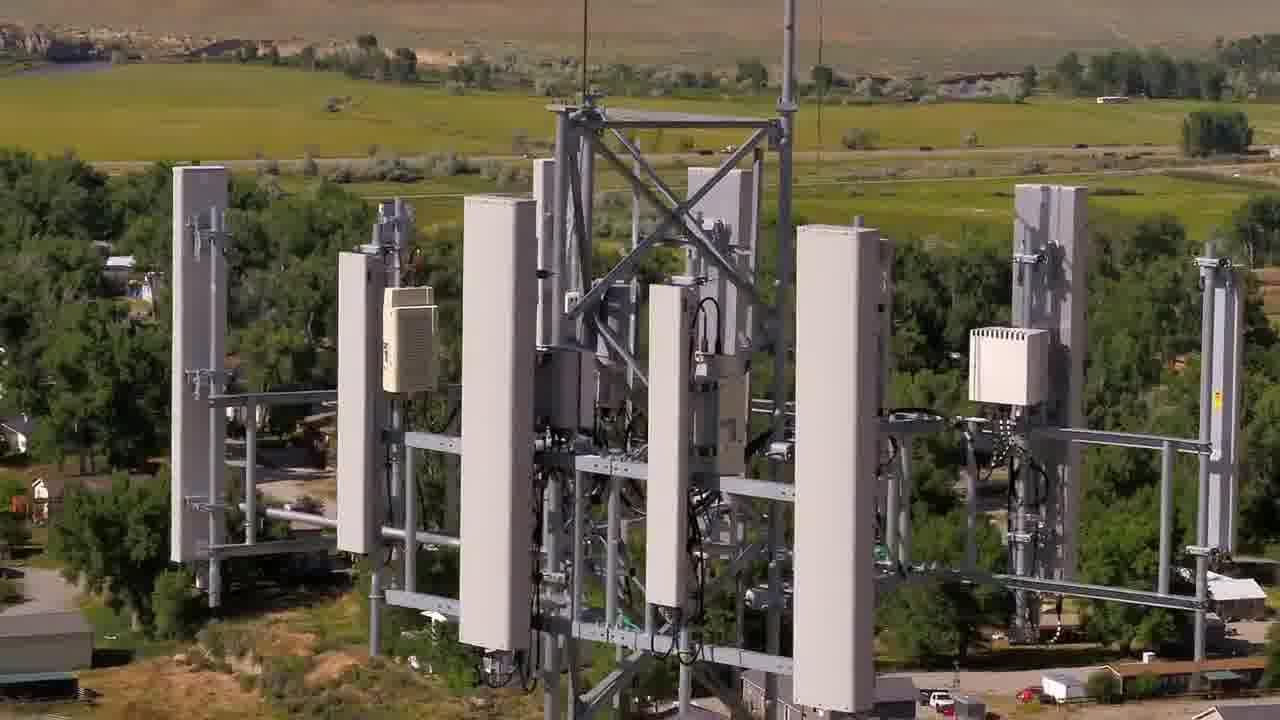antenna: (792, 209, 895, 716), (453, 176, 557, 660), (1007, 177, 1088, 600), (160, 156, 239, 577), (629, 267, 708, 633), (685, 155, 754, 471), (335, 234, 392, 552), (1201, 265, 1247, 572)
